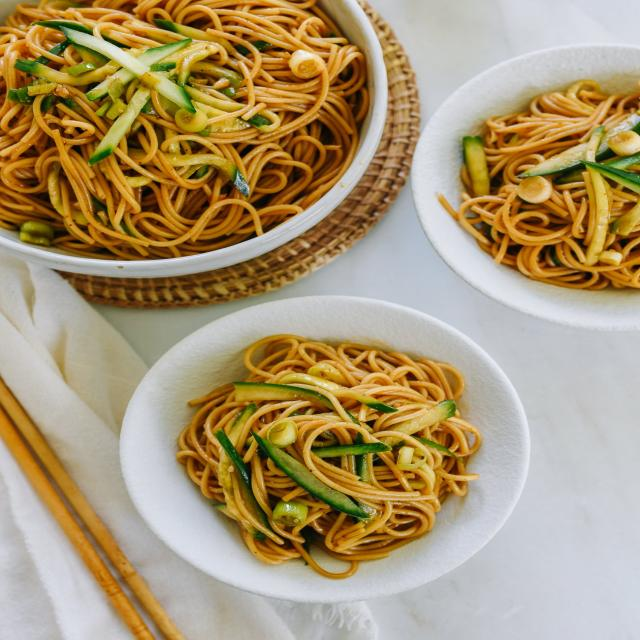Noodle: (0, 0, 370, 260), (176, 331, 489, 562), (458, 74, 640, 294)
